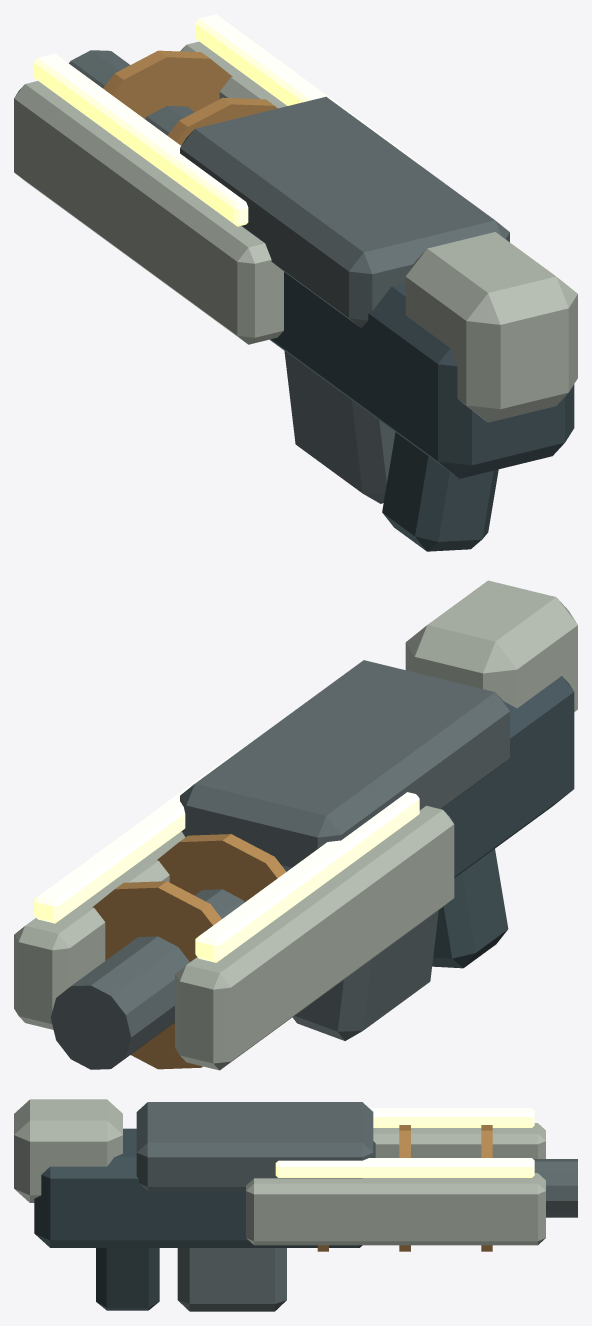
Rendered from coil_lance.glb.
3 views of the same model, one above another, from view 1: azimuth 30°, elevation 25°; view 2: azimuth 150°, elevation 25°; view 3: azimuth 270°, elevation 25° (orthographic). The views are drawn at different scales.
Visible parts, largest first — view 1: weapon; view 2: weapon; view 3: weapon.
Part boxes in pixels (bbox=[...]): weapon: bbox=[14, 14, 577, 551]; weapon: bbox=[14, 580, 577, 1070]; weapon: bbox=[14, 1099, 577, 1311].
Size of the model in its own units: 0.35 by 0.4796 by 1.24.
